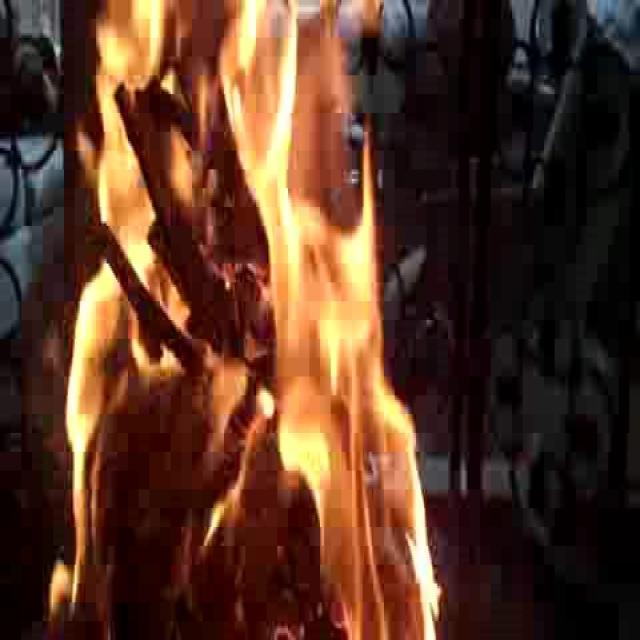fire: (59, 8, 421, 633)
